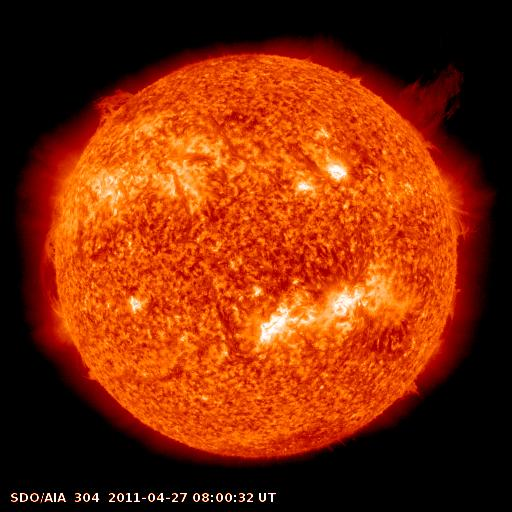prominence: (389, 60, 474, 159), (27, 167, 73, 319), (82, 80, 141, 130), (439, 283, 476, 330), (392, 368, 428, 408), (77, 358, 109, 394)
